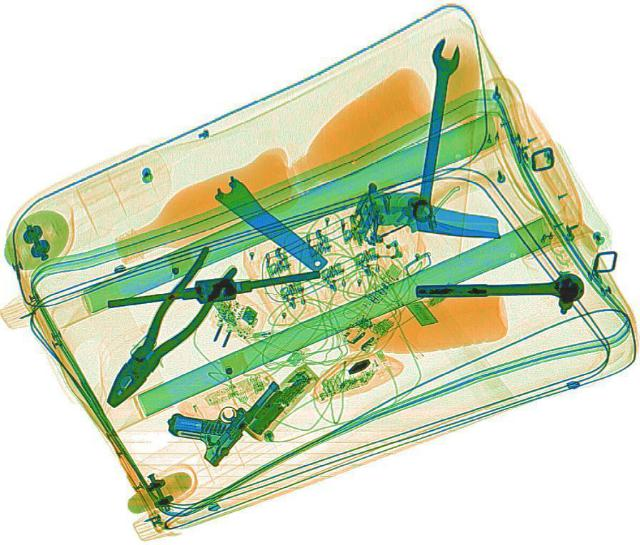Gun: (152, 352, 286, 467)
Pliers: (87, 244, 247, 413)
Wrench: (408, 34, 462, 219)
